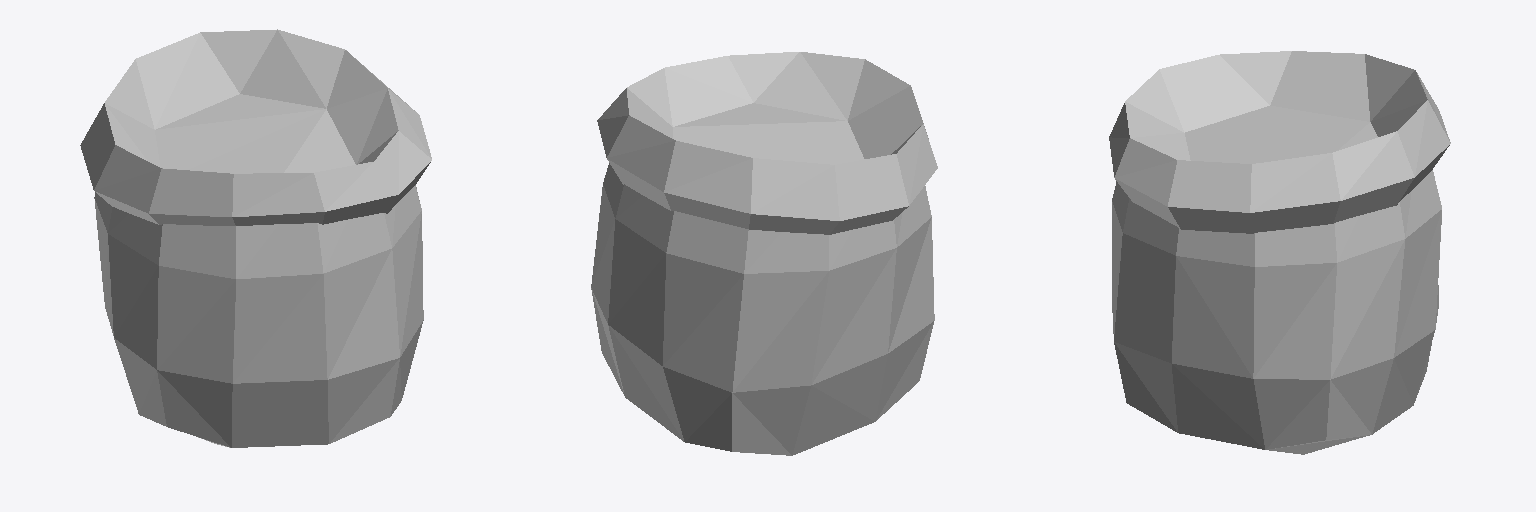
File: bag_003.obj
3 renders of one model, left to right at view 1: azimuth 30°, elevation 25°; view 2: azimuth 150°, elevation 25°; view 3: azimuth 270°, elevation 25°, orthographic.
Visible parts, largest first — view 1: bag_003; view 2: bag_003; view 3: bag_003.
Boxes of the visible parts, x1=… form: bag_003: x1=80, y1=29, x2=431, y2=447; bag_003: x1=591, y1=52, x2=937, y2=455; bag_003: x1=1109, y1=51, x2=1450, y2=454.
Bounding box in the file's own units: 0.5495 × 0.5712 × 0.5361.